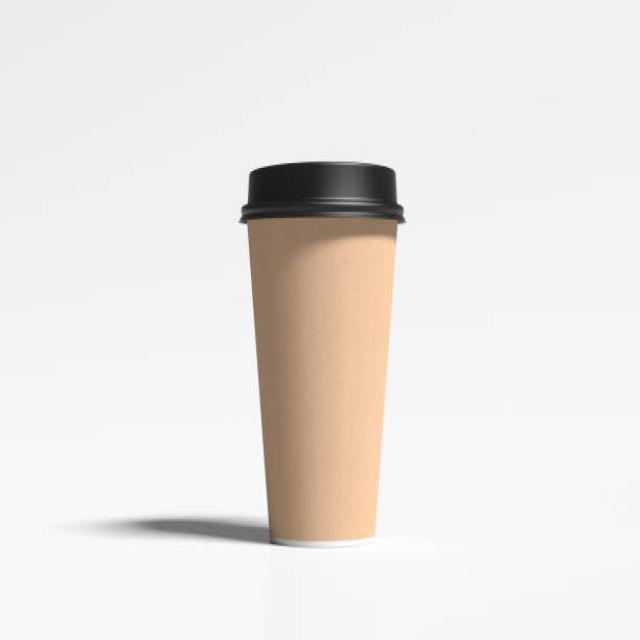cup: (235, 158, 409, 550)
